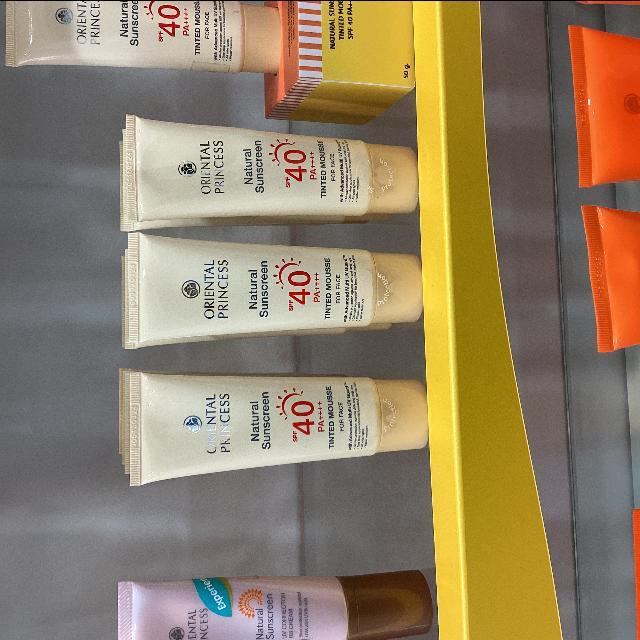Squeeze Tube: (86, 62, 456, 521), (126, 373, 432, 507), (129, 232, 432, 342), (127, 113, 418, 226)
